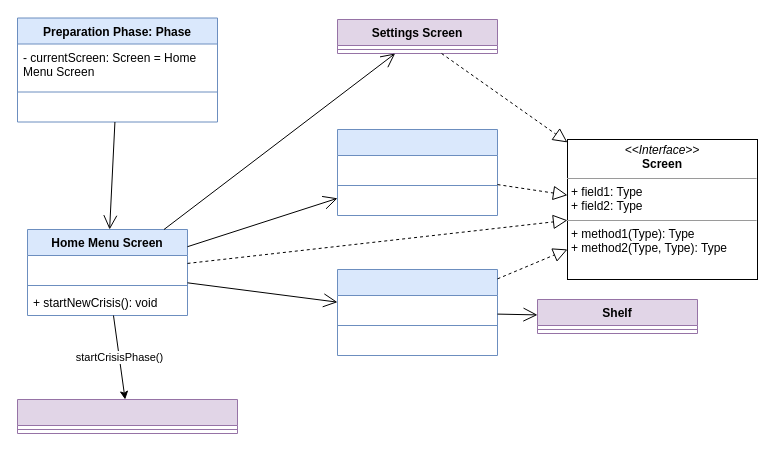
The diagram is 775 pixels wide and 451 high, and some of its shapes have lost their labels. The centre of each missing label's shape, as x and y in pixels:
Game: the point at 127,416
Shop Screen: the point at 417,312
Upgrade Center Screen: the point at 417,172
